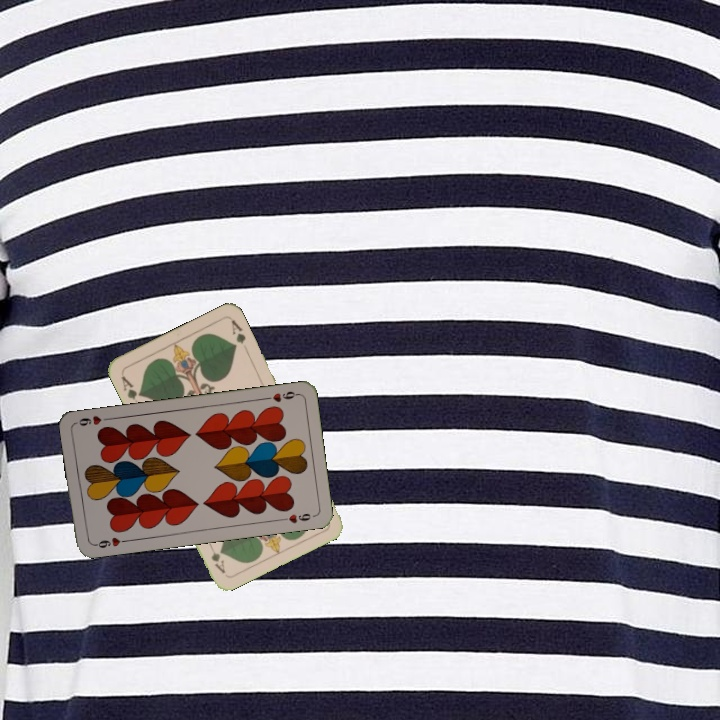GA: (117, 372, 144, 402)
H9: (260, 387, 301, 405), (89, 533, 130, 551)
